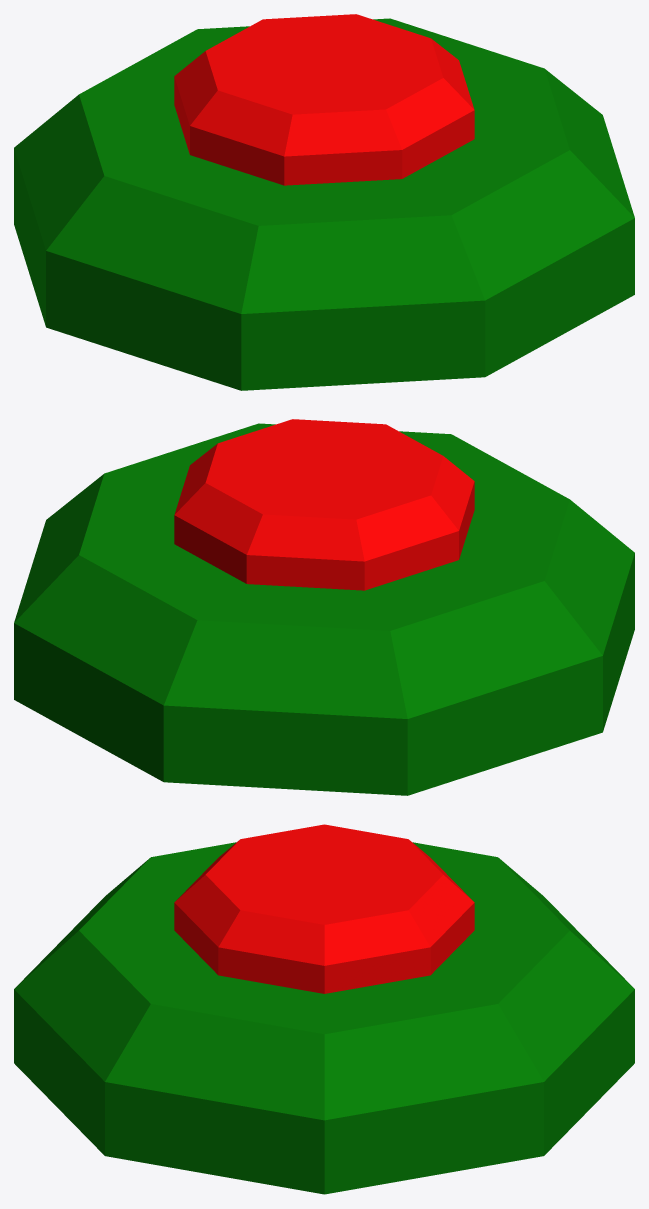
Rendered from mina.fbx.
3 renders of one model, top to bottom at view 1: azimuth 30°, elevation 25°; view 2: azimuth 150°, elevation 25°; view 3: azimuth 270°, elevation 25°, orthographic. The views are drawn at different scales.
Parts seen in each view (by area): view 1: мина; view 2: мина; view 3: мина.
Boxes of the visible parts, <box> form: мина: <box>14,14,634,390</box>; мина: <box>14,419,634,795</box>; мина: <box>14,824,634,1194</box>.
Bounding box in the file's own units: 200 × 67.02 × 200.
